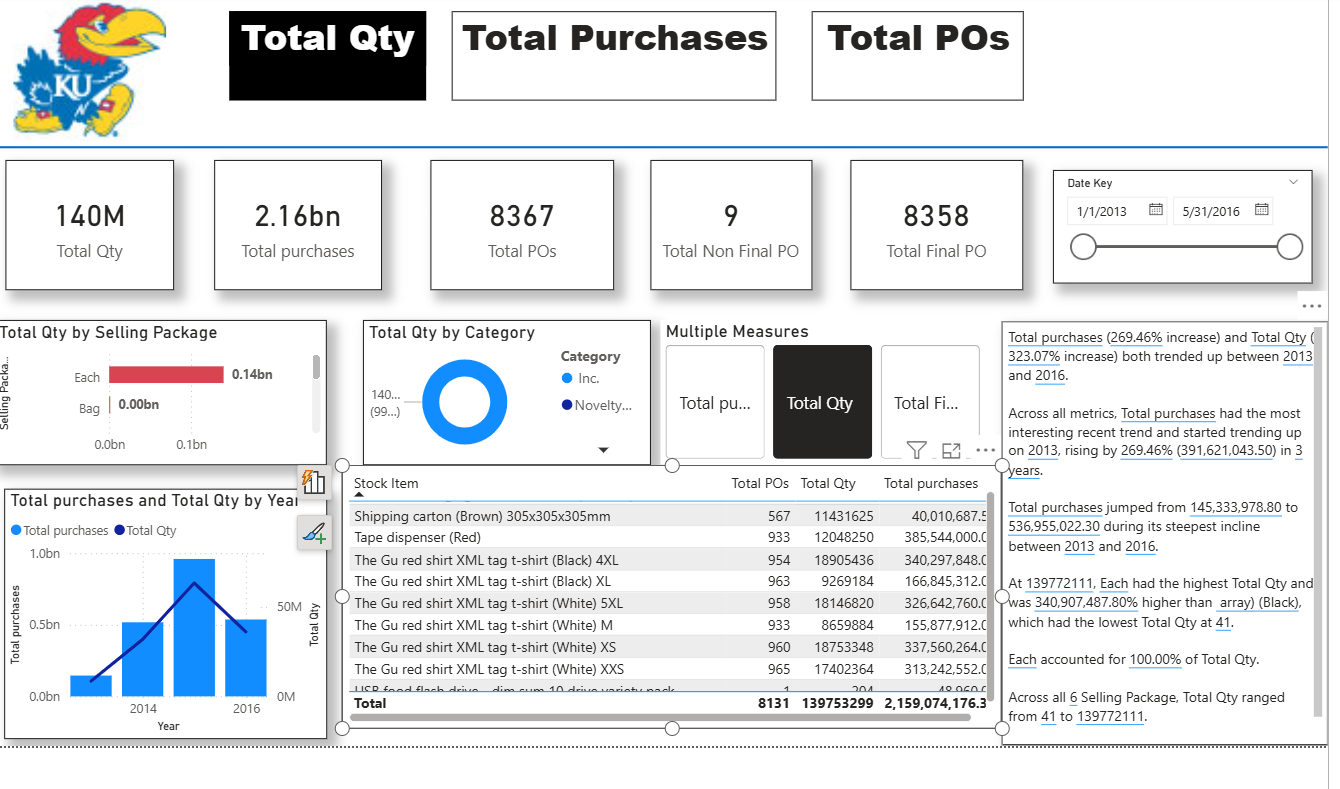

Layout of this report page (visuals, bound fields, positions):
{"tool":"powerbi","page":{"name":"Tool Tip","canvas":[1280,720],"ordinal":0},"visuals":[{"type":"image","box":[10.7,0,163.7,145.9],"z":0},{"type":"textbox","title":"Total Qty","box":[226,16,188.7,85.4],"z":1000},{"type":"textbox","title":"Total Purchases","box":[439.6,16,311.5,85.4],"z":2000},{"type":"textbox","title":"Total POs","box":[784.9,16,202.9,85.4],"z":3000},{"type":"shape","box":[0,121,1279.7,49.8],"z":4000},{"type":"card","fields":{"Values":["Table.Total Qty"]},"box":[12.5,158.4,162,124.6],"z":5000},{"type":"card","fields":{"Values":["Table.Total purchases"]},"box":[211.8,158.4,161,124.6],"z":6000},{"type":"card","fields":{"Values":["Table.Total POs"]},"box":[420,158.4,176.2,124.6],"z":7000},{"type":"card","fields":{"Values":["Table.Total Non Final PO"]},"box":[630,158.4,154.8,124.6],"z":8000},{"type":"card","fields":{"Values":["Table.Total Final PO"]},"box":[822.3,158.4,165.5,124.6],"z":9000},{"type":"slicer","fields":{"Values":["Fact_Purchase.Date Key"]},"box":[1016.3,167.3,249.2,108.6],"z":10000},{"type":"lineStackedColumnComboChart","fields":{"Category":["Date Table.Date.Variation.Date Hierarchy.Year","Date Table.Date.Variation.Date Hierarchy.Quarter","Date Table.Date.Variation.Date Hierarchy.Month","Date Table.Date.Variation.Date Hierarchy.Day"],"Y":["Table.Total purchases"],"Y2":["Table.Total Qty"]},"box":[10.7,473.4,309.7,240.3],"z":11000},{"type":"barChart","fields":{"Category":["dim_stock_item.Selling Package"],"Y":["Table.Total Qty"]},"box":[0,311.5,320.4,138.8],"z":12000},{"type":"donutChart","fields":{"Category":["dim_supplier.Category"],"Y":["Table.Total Qty"]},"box":[354.2,311.5,275.9,138.8],"z":13000},{"type":"advancedSlicerVisual","fields":{"Values":["Multiple Measures.Multiple Measures"]},"box":[640,311.7,313.3,138.3],"z":14000},{"type":"textbox","box":[966.7,313.3,313.3,406.7],"z":15000},{"type":"tableEx","fields":{"Values":["dim_stock_item.Stock Item","Table.Total POs","Table.Total Qty","Table.Total purchases"]},"box":[320,460,633.3,253.3],"z":16000}]}

Visuals, with their boxes in screenshot pixels (x1, y1, x2, y2):
image: <box>4,0,173,144</box>
"Total Qty" textbox: <box>226,10,421,98</box>
"Total Purchases" textbox: <box>447,10,768,98</box>
"Total POs" textbox: <box>803,10,1013,98</box>
shape: <box>0,118,1314,169</box>
card - Table.Total Qty: <box>6,157,173,285</box>
card - Table.Total purchases: <box>212,157,378,285</box>
card - Table.Total POs: <box>427,157,609,285</box>
card - Table.Total Non Final PO: <box>643,157,803,285</box>
card - Table.Total Final PO: <box>842,157,1013,285</box>
slicer - Fact_Purchase.Date Key: <box>1042,166,1300,278</box>
lineStackedColumnComboChart - Date Table.Date.Variation.Date Hierarchy.Year x Date Table.Date.Variation.Date Hierarchy.Quarter: <box>4,482,324,730</box>
barChart - dim_stock_item.Selling Package x Table.Total Qty: <box>0,315,324,458</box>
donutChart - dim_supplier.Category x Table.Total Qty: <box>359,315,644,458</box>
advancedSlicerVisual - Multiple Measures.Multiple Measures: <box>654,315,977,458</box>
textbox: <box>991,316,1314,736</box>
tableEx - dim_stock_item.Stock Item x Table.Total POs: <box>323,468,977,729</box>
